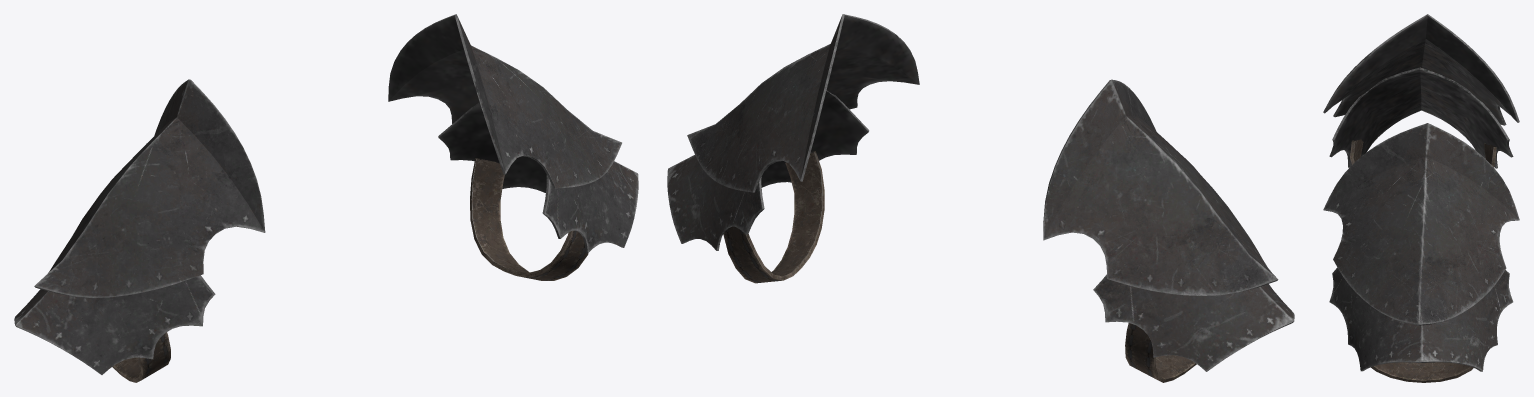
Rendered from sk_uruk_mordor_pauldron_heavy_f.fbx.
3 renders of one model, left to right at view 1: azimuth 30°, elevation 25°; view 2: azimuth 150°, elevation 25°; view 3: azimuth 270°, elevation 25°, orthographic. The views are drawn at different scales.
Parts seen in each view (by area): view 1: sk_uruk_mordor_pauldron_heavy_f.2, sk_uruk_mordor_pauldron_heavy_f.1, sk_uruk_mordor_pauldron_heavy_f.0; view 2: sk_uruk_mordor_pauldron_heavy_f.2, sk_uruk_mordor_pauldron_heavy_f.1, sk_uruk_mordor_pauldron_heavy_f.0; view 3: sk_uruk_mordor_pauldron_heavy_f.2, sk_uruk_mordor_pauldron_heavy_f.1, sk_uruk_mordor_pauldron_heavy_f.0.
Part boxes in pixels (<box>): sk_uruk_mordor_pauldron_heavy_f.2: <box>34,14,621,298</box>; sk_uruk_mordor_pauldron_heavy_f.1: <box>14,102,638,374</box>; sk_uruk_mordor_pauldron_heavy_f.0: <box>112,158,588,382</box>; sk_uruk_mordor_pauldron_heavy_f.2: <box>687,14,1278,295</box>; sk_uruk_mordor_pauldron_heavy_f.1: <box>667,90,1294,371</box>; sk_uruk_mordor_pauldron_heavy_f.0: <box>723,151,1196,382</box>; sk_uruk_mordor_pauldron_heavy_f.2: <box>1323,14,1519,325</box>; sk_uruk_mordor_pauldron_heavy_f.1: <box>1329,67,1513,371</box>; sk_uruk_mordor_pauldron_heavy_f.0: <box>1350,139,1496,382</box>.
Size of the model in its own units: 0.8779 by 0.2878 by 0.3738.
3 materials, 3 textured.
